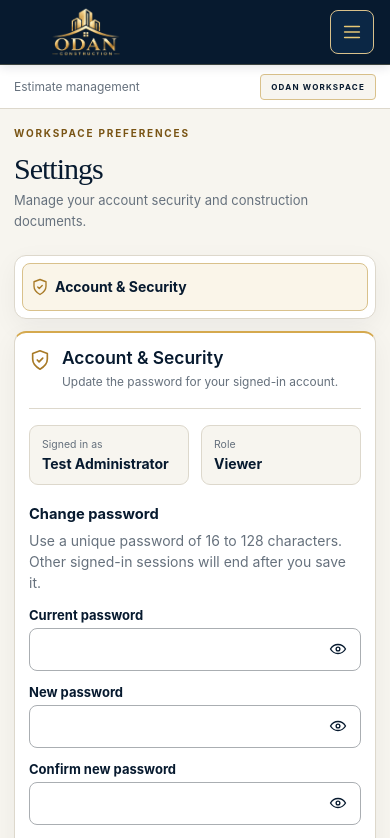
general Settings › keeps shared PDF settings unavailable to a viewer and lets mobile navigation open
Click the button named "Open navigation": (352,32) [330, 10, 374, 54]
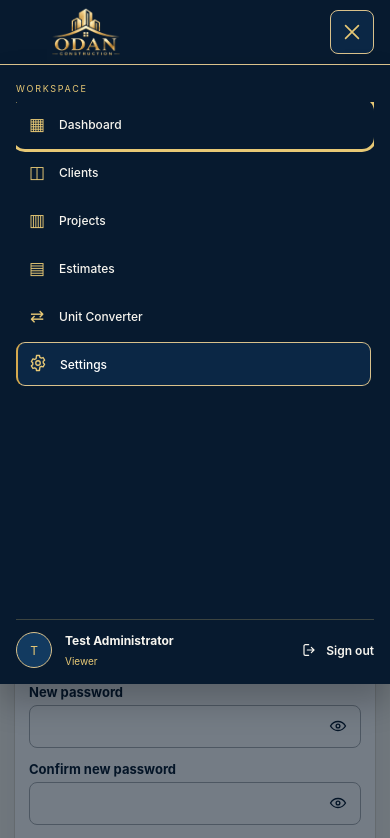
Now the button named "Close navigation" is expanded, box [330, 10, 374, 54]
Now the button "Sign out" is shown, box [302, 630, 374, 670]
